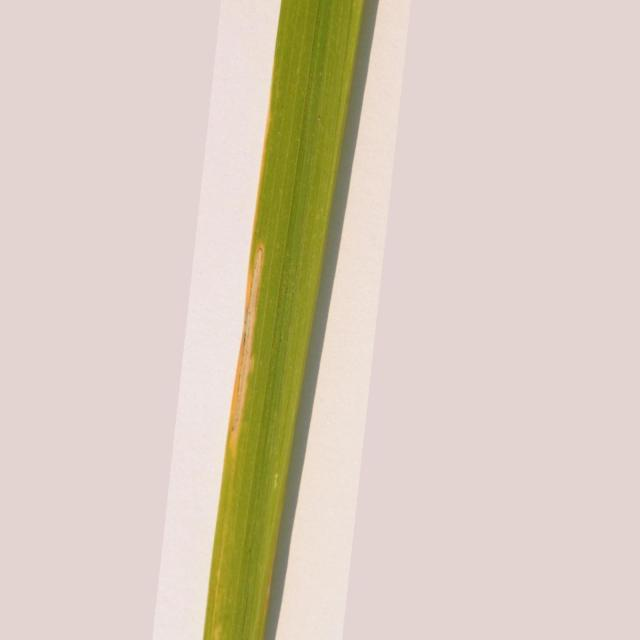Bacterial_Leaf_Blight: (225, 248, 262, 461)
